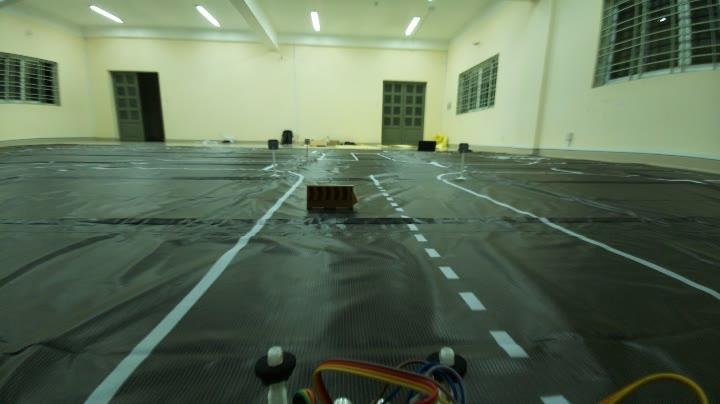roadblock: (302, 180, 364, 218)
